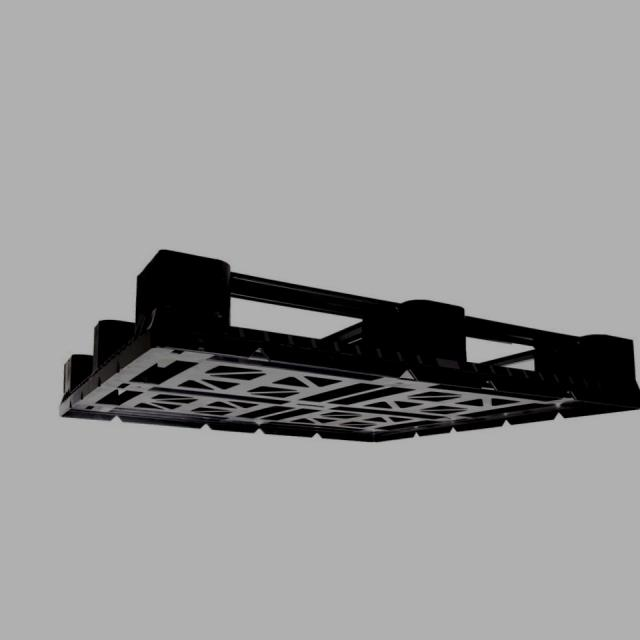non-igps: (53, 242, 640, 450)
